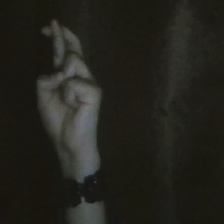R: (26, 10, 114, 159)
